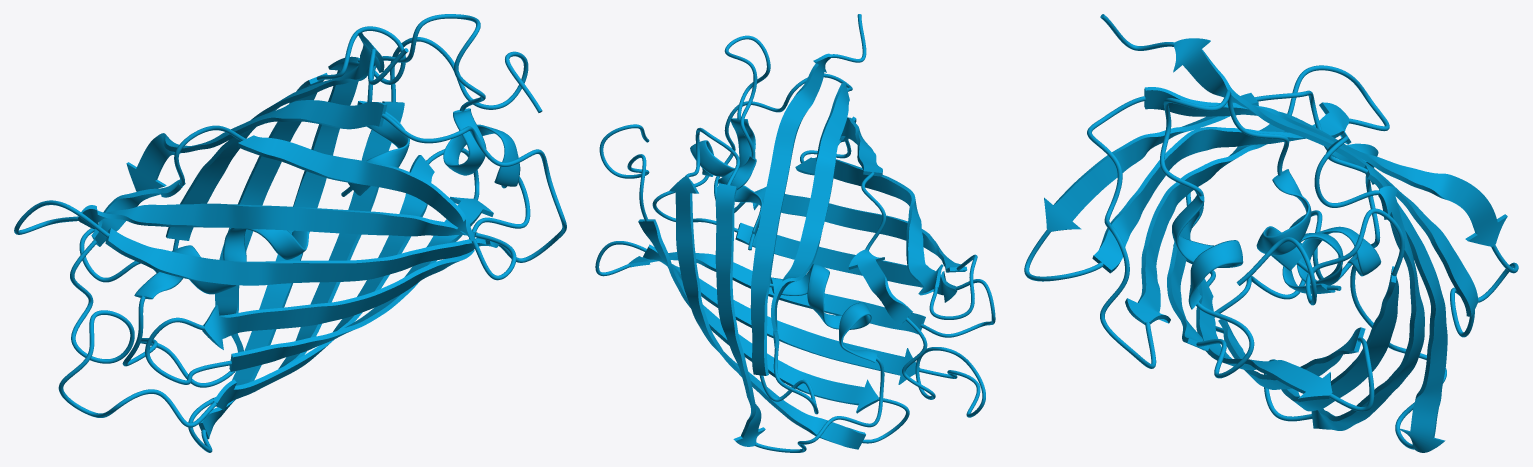
File: mCherry%20Fluorescent%20Protein-ribbon-bychain-vis_NIH3D.glb
The picture shows the model from 3 angles, left to right: view 1: azimuth 30°, elevation 25°; view 2: azimuth 150°, elevation 25°; view 3: azimuth 270°, elevation 25°; orthographic projection. The views are drawn at different scales.
Visible parts, largest first — view 1: ribbons; view 2: ribbons; view 3: ribbons.
Boxes of the visible parts, x1=… form: ribbons: x1=14, y1=14, x2=566, y2=452; ribbons: x1=595, y1=14, x2=995, y2=452; ribbons: x1=1024, y1=14, x2=1518, y2=452.
Size of the model in its own units: 48.15 by 41.61 by 40.06.
